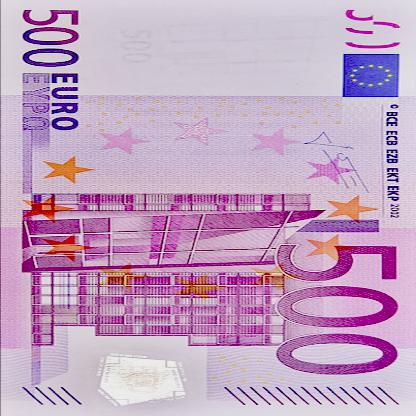euro_banknote: (0, 18, 411, 405)
